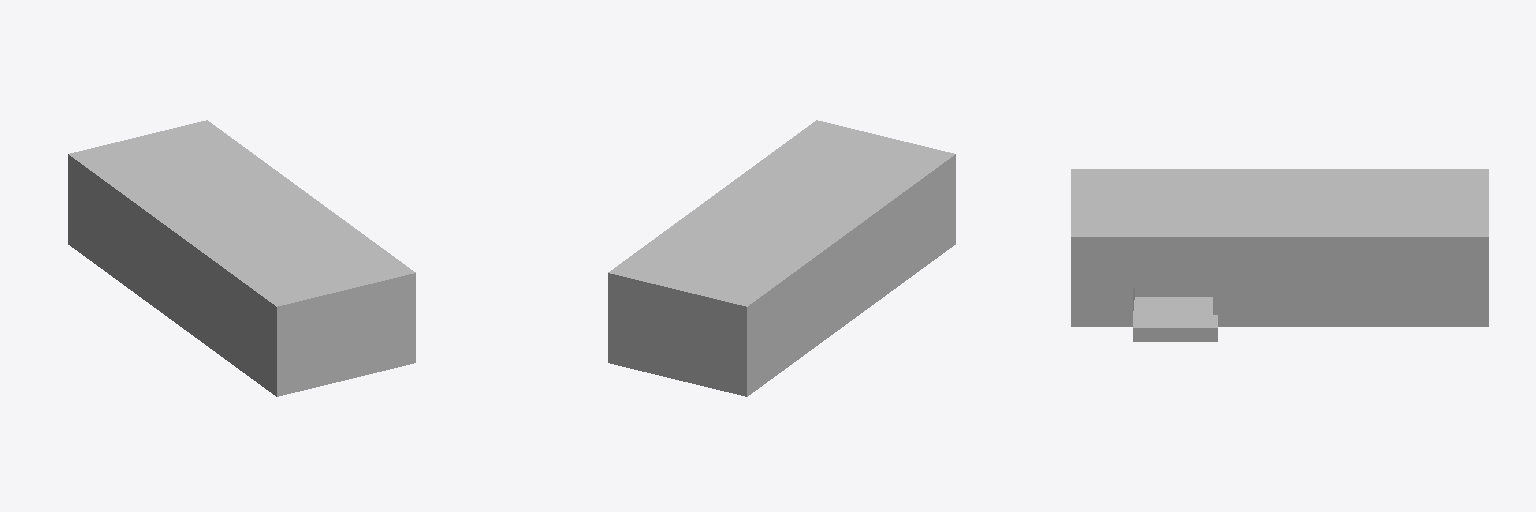
The model's file is stonebed.obj.
The picture shows the model from 3 angles: view 1: azimuth 30°, elevation 25°; view 2: azimuth 150°, elevation 25°; view 3: azimuth 270°, elevation 25°; orthographic projection.
Parts seen in each view (by area): view 1: g polySurface2693_polySurface2693; view 2: g polySurface2693_polySurface2693; view 3: g polySurface2693_polySurface2693.
Boxes of the visible parts, x1=… form: g polySurface2693_polySurface2693: x1=68, y1=120, x2=415, y2=396; g polySurface2693_polySurface2693: x1=608, y1=120, x2=955, y2=396; g polySurface2693_polySurface2693: x1=1071, y1=169, x2=1488, y2=341.
Bounding box in the file's own units: 182 × 95.64 × 394.